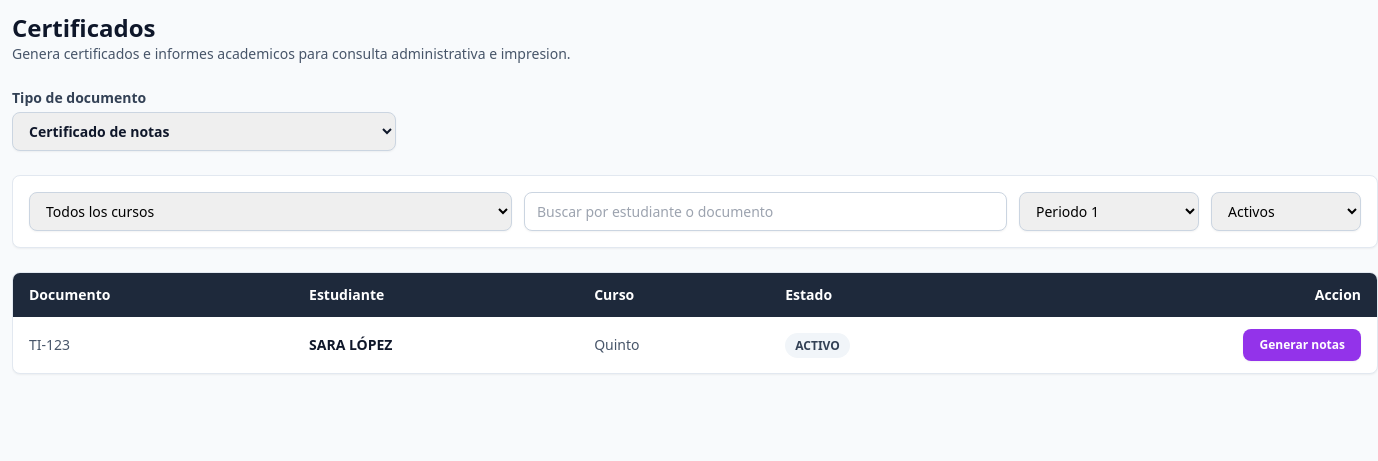
Test: CertificadosAdmin › si no carga la ficha, avisa y no abre el certificado
The image size is (1378, 461).
Expected: the text "TI-123" is shown, [13,317,293,373]
Select "Certificado de aprobado" in the dropdown labelled "Tipo de documento" at {"x": 204, "y": 132}, box [12,112,396,151]
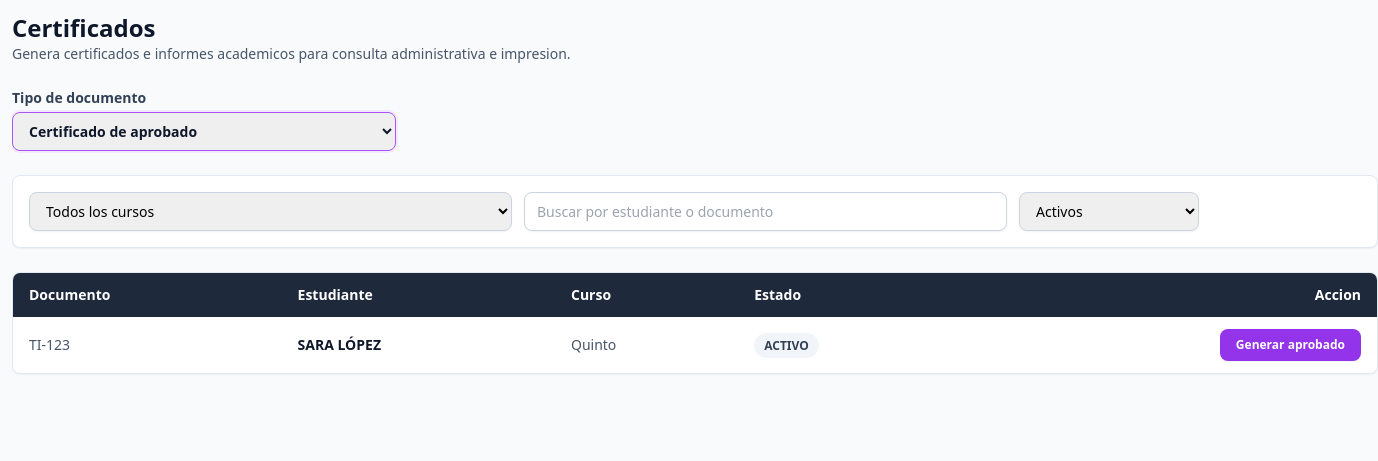
Click the button "Generar aprobado" at {"x": 1290, "y": 345}, box [1220,329,1361,361]
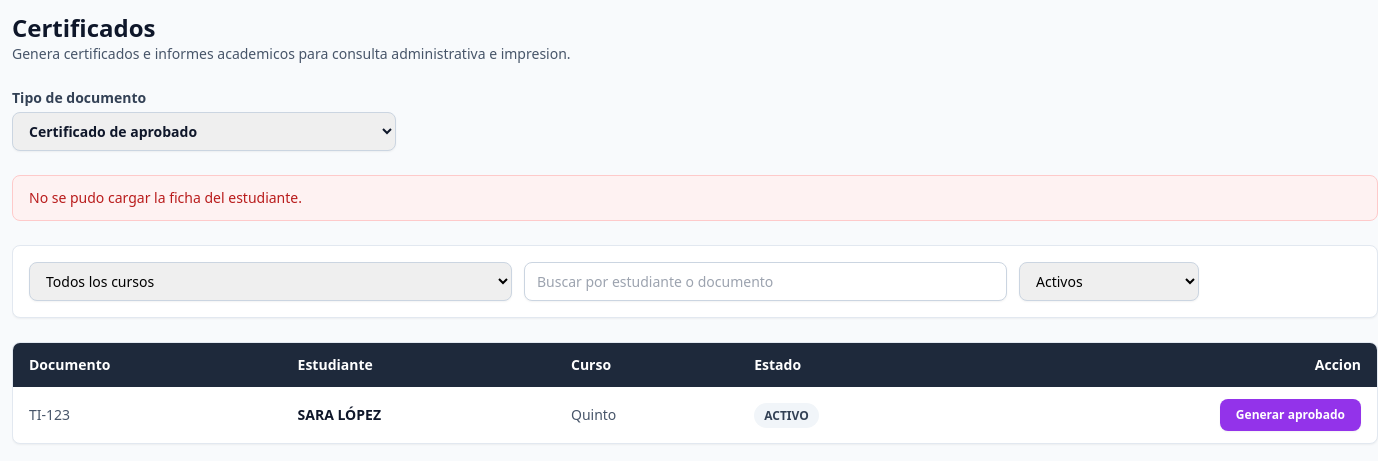
Expected: the text "No se pudo cargar la ficha del estudiante." is shown, [12,175,1377,221]
